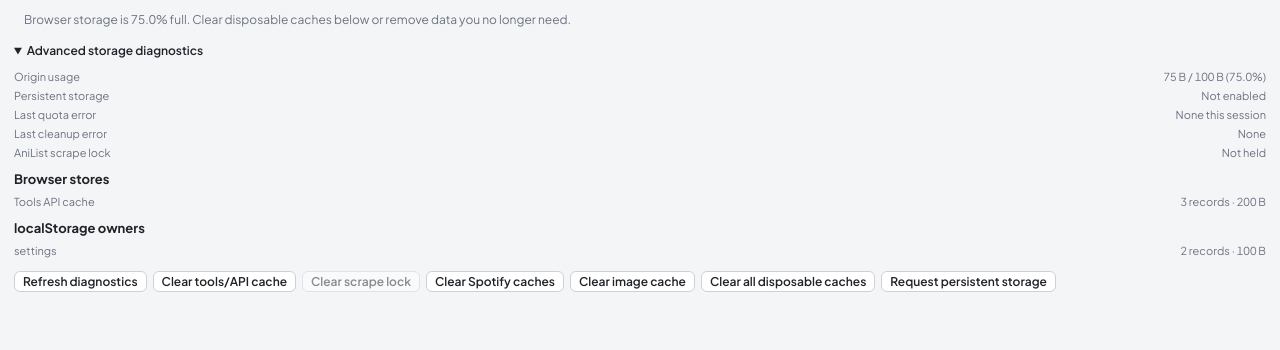
Test: StorageDiagnosticsSection › runs only disposable-cache actions and refreshes their measurements
Step 1. Click the button "Clear all disposable caches" → (788, 282), box 701,271 -> 875,292
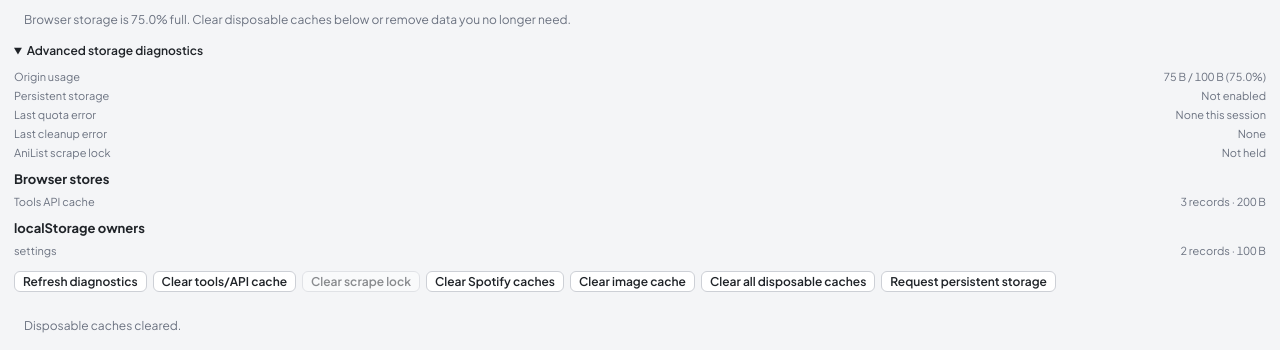
Expected: the text "Disposable caches cleared." is shown, 24,318 -> 181,333
